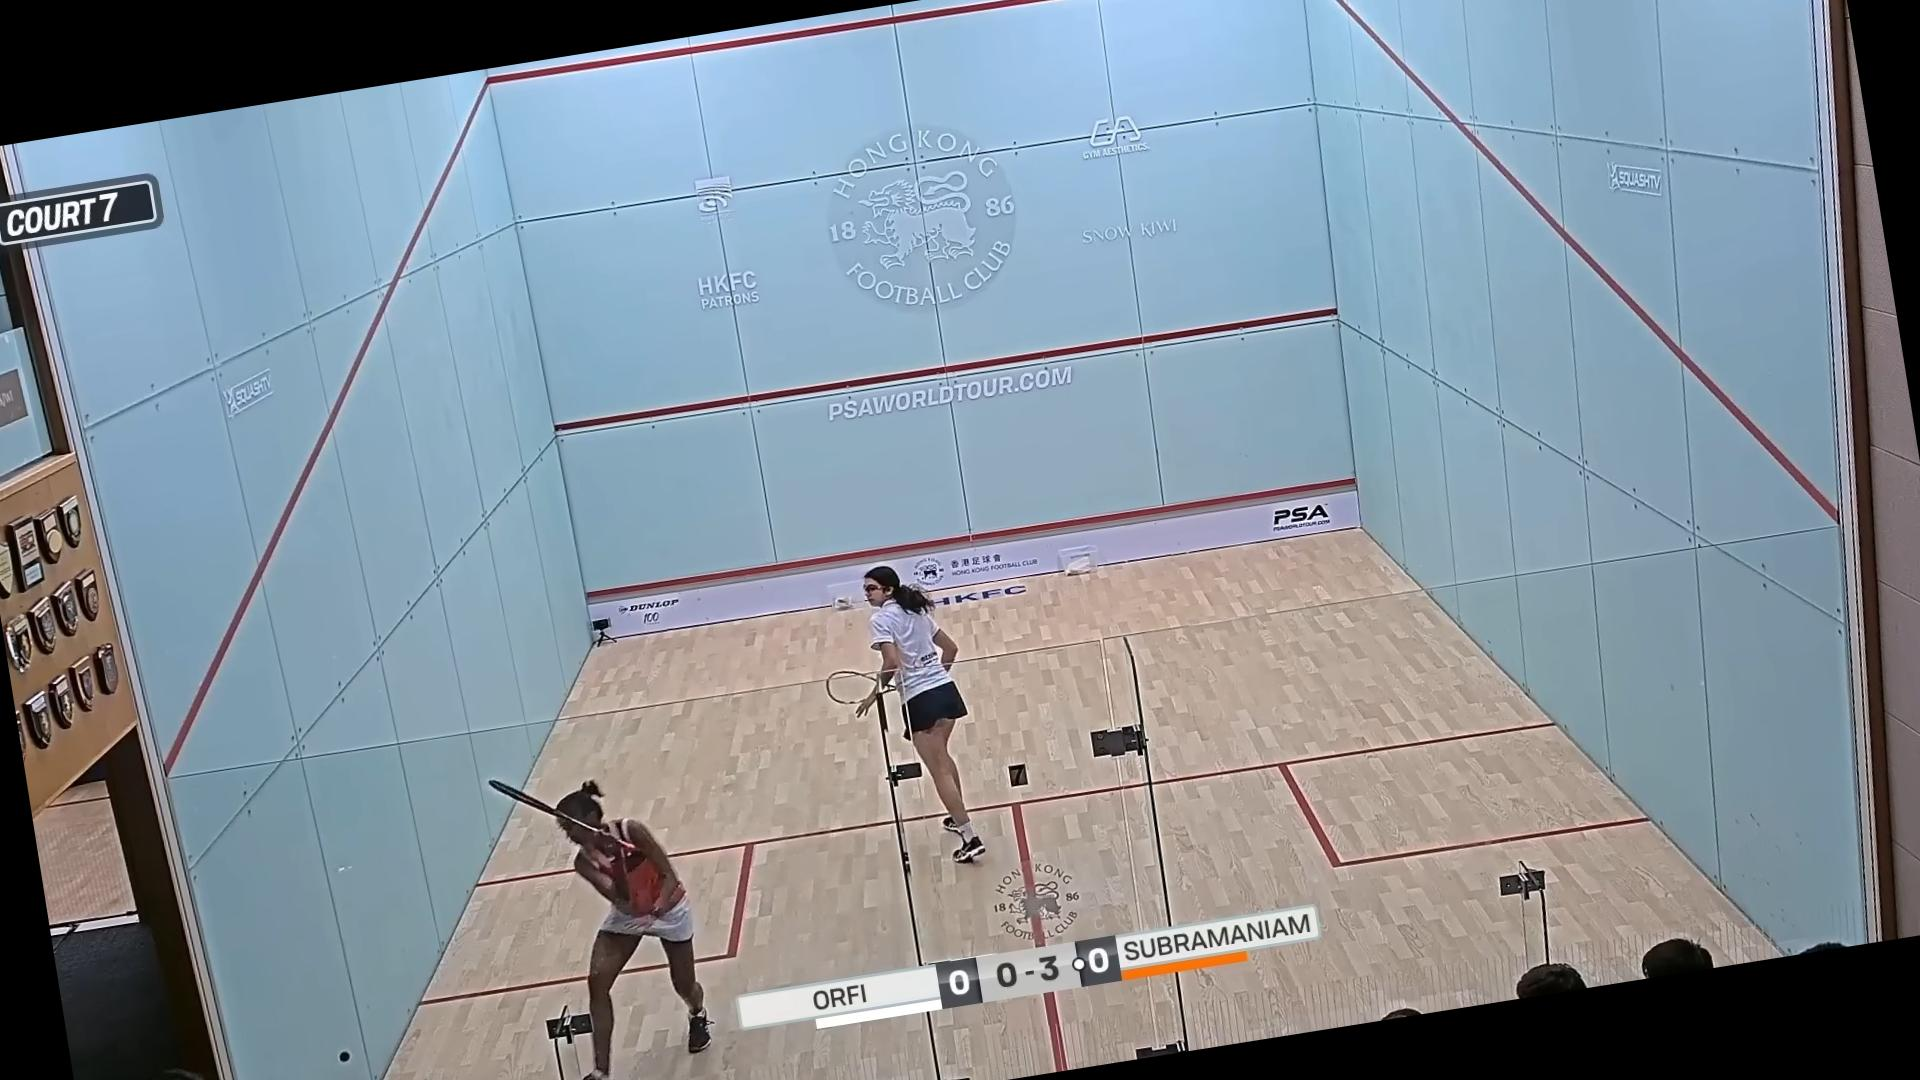Squash-Ball: (326, 1039, 364, 1079)
